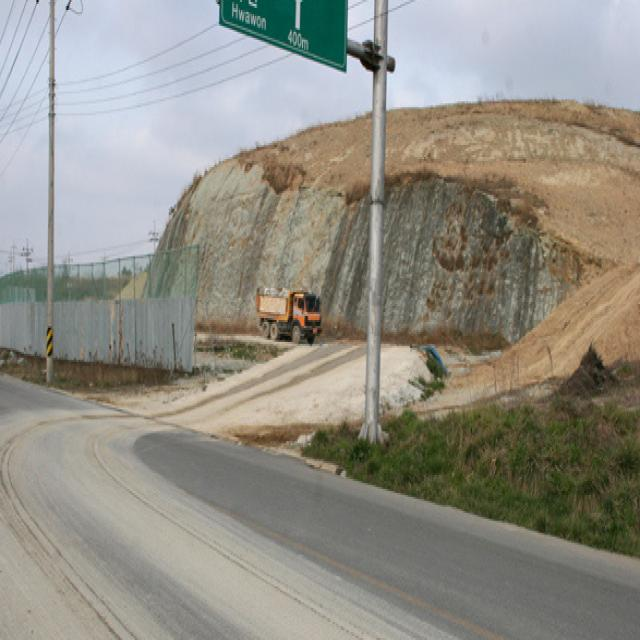asphalt: (0, 378, 639, 638)
red-sand: (434, 264, 639, 405)
white-sand: (386, 99, 639, 258), (107, 342, 364, 437), (239, 113, 369, 199), (381, 344, 427, 407)
